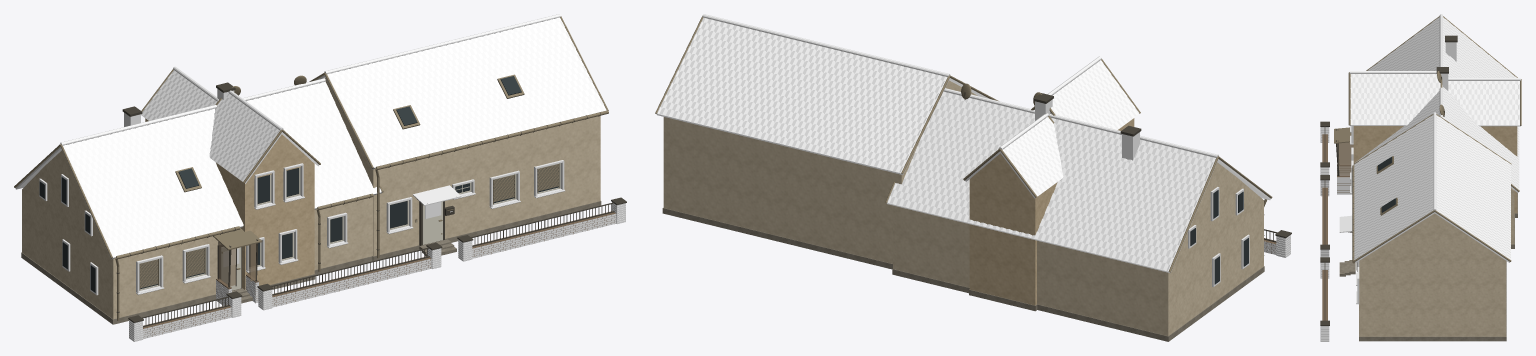
File: Haus-Aussenmodell.glb
3 views of the same model, side by side, from view 1: azimuth 30°, elevation 25°; view 2: azimuth 150°, elevation 25°; view 3: azimuth 270°, elevation 25° (orthographic). The views are drawn at different scales.
Parts seen in each view (by area): view 1: Rechter Hausteil, Dachziegel.002, Dachziegel.004, Hauptbau links, Dachziegel.001, Dachziegel, Dachziegel.003, Vorderer Zwerchgiebel, Dach rechter Hausteil, Satteldach Hauptbau, Sockel, Metallzaun (+30 smaller); view 2: Rechter Hausteil, Hauptbau links, Dachziegel.004, Dachziegel.003, Dachziegel.001, Dachziegel, Dachziegel.002, Rückwärtiger Giebelaufbau, geschätzt, Satteldach Hauptbau.001, Dach rechter Hausteil.001, Sockel, Seitengiebel Hauptbau (+8 smaller); view 3: Rechter Hausteil, Dachziegel.004, Dachziegel.001, Dachziegel, Dachziegel.002, Dachziegel.003, Rechter Seitengiebel, Sockel, Vorderer Zwerchgiebel, Klinkermauer Mörtel, Dach rechter Hausteil.001, Dach rechter Hausteil (+26 smaller).
Boxes of the visible parts, box(x1,y1,x2,y2) form: Rechter Hausteil: box(359, 116, 600, 256); Dachziegel.002: box(63, 20, 589, 253); Dachziegel.004: box(64, 21, 600, 250); Hauptbau links: box(22, 189, 372, 319); Dachziegel.001: box(67, 19, 600, 255); Dachziegel: box(67, 17, 601, 256); Dachziegel.003: box(74, 22, 606, 252); Vorderer Zwerchgiebel: box(216, 162, 314, 289); Dach rechter Hausteil: box(325, 19, 605, 169); Satteldach Hauptbau: box(61, 83, 382, 259); Sockel: box(21, 201, 601, 324); Metallzaun: box(142, 202, 614, 327); Rechter Hausteil: box(663, 117, 908, 263); Hauptbau links: box(893, 200, 1263, 335); Dachziegel.004: box(657, 21, 1215, 262); Dachziegel.003: box(672, 20, 1214, 270); Dachziegel.001: box(663, 22, 1205, 269); Dachziegel: box(660, 25, 1211, 270); Dachziegel.002: box(666, 17, 1208, 264); Rückwärtiger Giebelaufbau, geschätzt: box(969, 179, 1057, 305); Satteldach Hauptbau.001: box(886, 93, 1218, 272); Dach rechter Hausteil.001: box(656, 19, 949, 174); Sockel: box(662, 208, 1264, 341); Seitengiebel Hauptbau: box(1174, 162, 1263, 265); Rechter Hausteil: box(1359, 260, 1505, 336); Dachziegel.004: box(1350, 17, 1519, 259); Dachziegel.001: box(1350, 22, 1519, 255); Dachziegel: box(1350, 19, 1519, 257); Dachziegel.002: box(1350, 17, 1519, 256); Dachziegel.003: box(1350, 19, 1519, 259); Rechter Seitengiebel: box(1360, 213, 1504, 260); Sockel: box(1359, 193, 1517, 341); Vorderer Zwerchgiebel: box(1353, 126, 1403, 164); Klinkermauer Mörtel: box(1322, 134, 1327, 320); Dach rechter Hausteil.001: box(1435, 118, 1510, 262); Dach rechter Hausteil: box(1355, 118, 1435, 262).
Bounding box in the file's own units: 24.21 × 7.63 × 10.07.
Materials: 25 (5 with a texture image).
